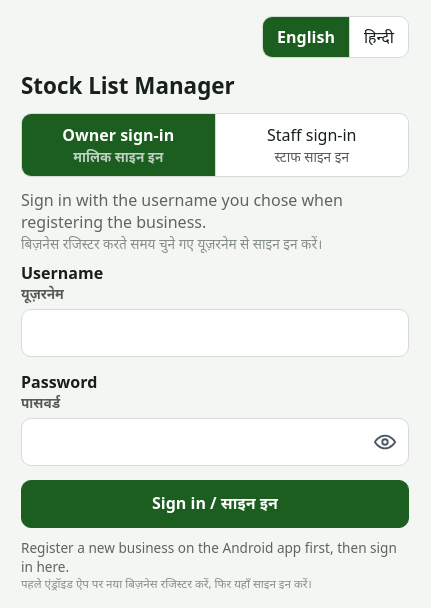
it: the app › makes a user with a temporary password set a new one first
Click the button "Staff sign-in स्टाफ साइन इन" at (311, 145), box [214,114,408,176]
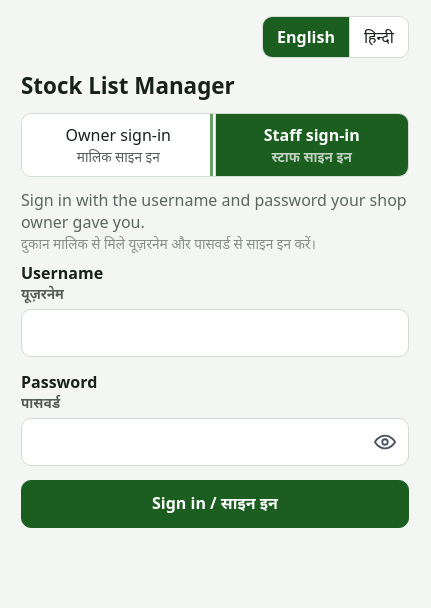
Type "ravi" into the field labelled "Username यूज़रनेम" at (215, 333), box [21,309,409,357]
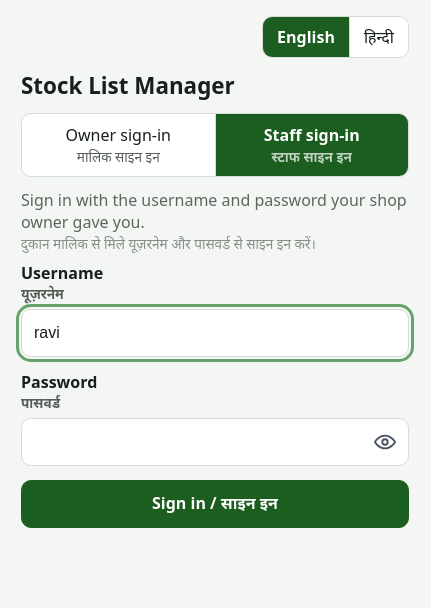
Type "temp-pass-1" into the password field labelled "Password पासवर्ड" at (215, 442), box [21,418,409,466]
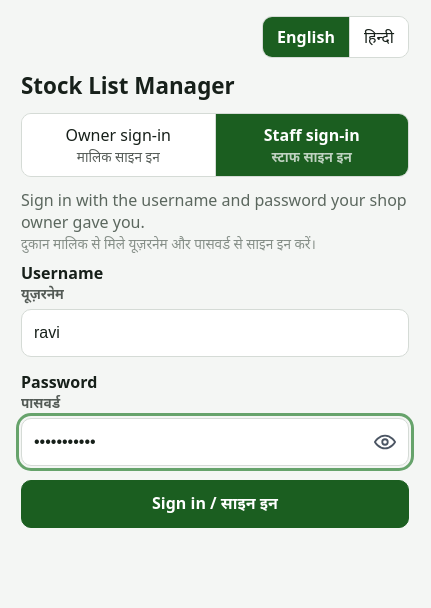
Click the button "Sign in / साइन इन" at (215, 504), box [21,480,409,528]
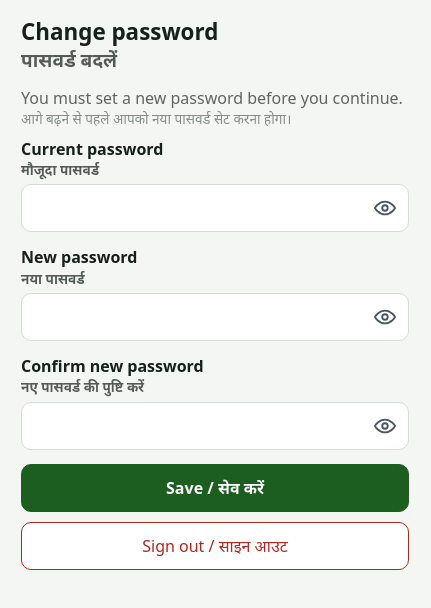
Expected: the text "You must set a new password before you continue." is shown, [21,87,403,109]
